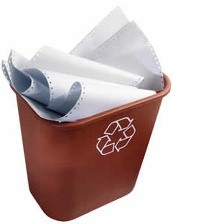news_paper: (0, 2, 169, 128)
